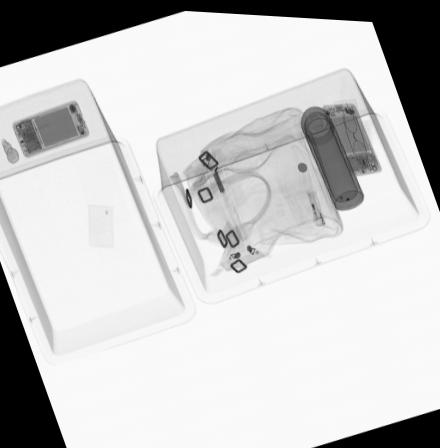Lighter: (305, 185, 325, 221)
